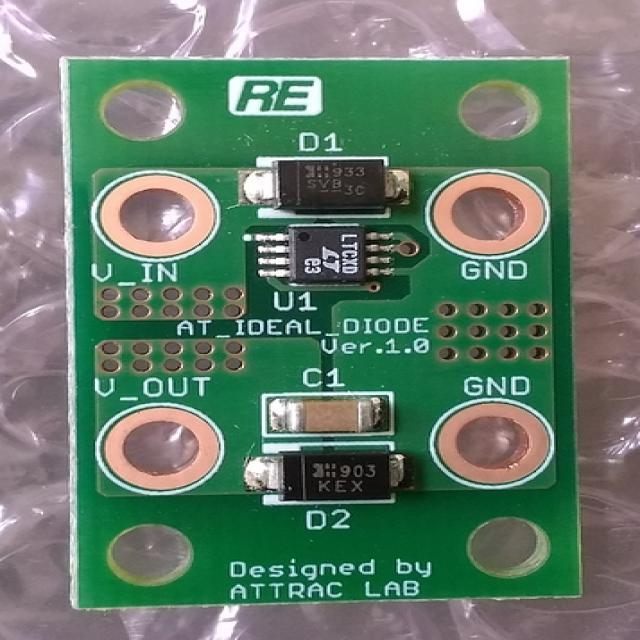IC: (281, 231, 387, 286)
capacitor 1V5: (278, 394, 374, 436)
diode -D1-: (263, 153, 389, 214), (269, 448, 383, 495)
